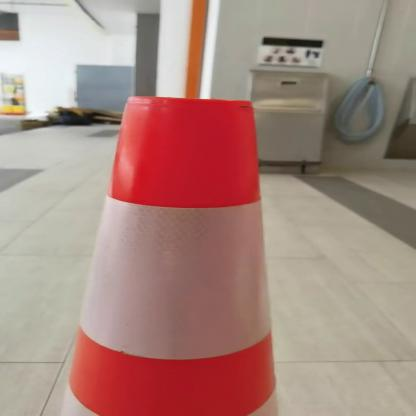cone: (57, 91, 305, 415)
